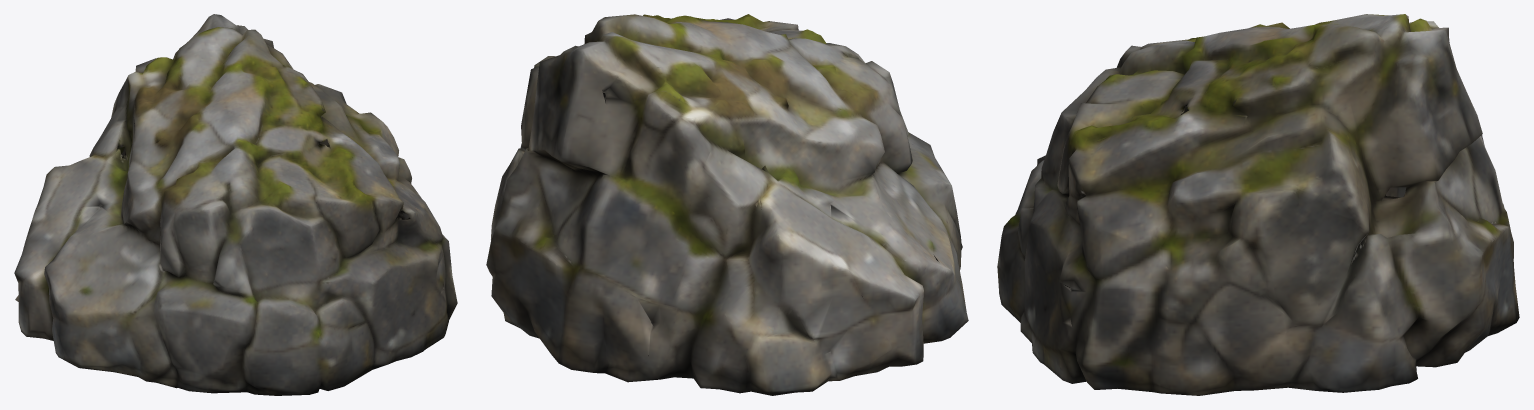
The model's file is rock0.glb.
3 views of the same model, side by side, from view 1: azimuth 30°, elevation 25°; view 2: azimuth 150°, elevation 25°; view 3: azimuth 270°, elevation 25° (orthographic). The views are drawn at different scales.
Parts seen in each view (by area): view 1: MV_rock0; view 2: MV_rock0; view 3: MV_rock0.
Boxes of the visible parts, x1,y1,x2,y2 form: MV_rock0: (14, 14, 457, 395); MV_rock0: (486, 14, 968, 395); MV_rock0: (997, 14, 1519, 395).
Size of the model in its own units: 2.15 by 1.4 by 2.18.
Materials: 1 (1 with a texture image).
